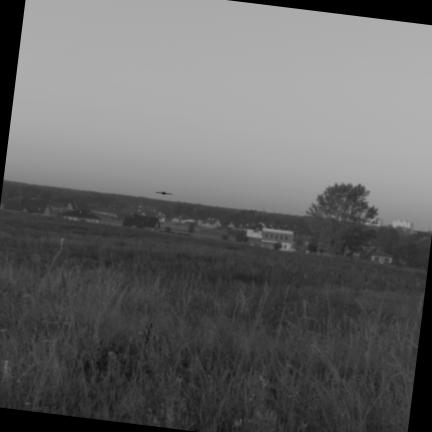Shahed: (156, 191, 171, 194)
